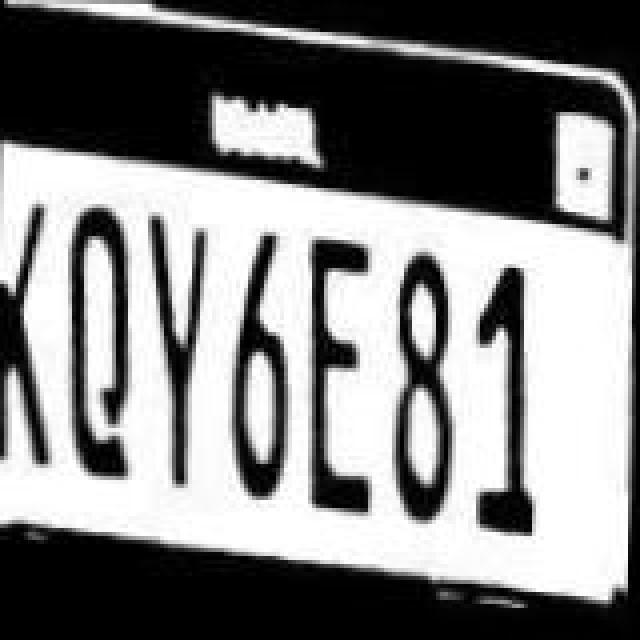1: (466, 238, 546, 550)
6: (226, 226, 302, 502)
8: (390, 250, 462, 534)
E: (302, 234, 394, 526)
K: (0, 200, 60, 460)
Q: (66, 210, 150, 490)
Y: (134, 210, 210, 502)
